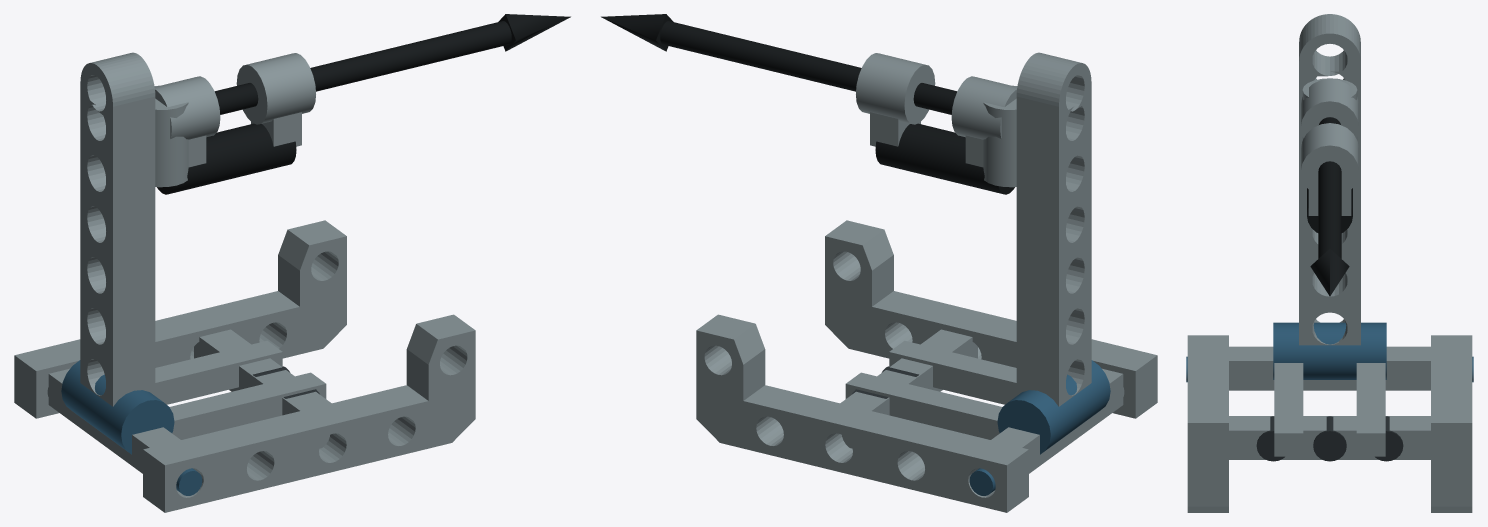
File: crossbow.glb
3 views of the same model, side by side, from view 1: azimuth 30°, elevation 25°; view 2: azimuth 150°, elevation 25°; view 3: azimuth 270°, elevation 25° (orthographic). The views are drawn at different scales.
Visible parts, largest first — view 1: L-shaped perforated side foot (×2), Single perforated folding upright, Inner sliding rail (×2), Arrow guide collar (×2), Arrow shaft, Base lateral crossbar (×2), Fold hinge pin, Lower tension barrel, Launcher pivot socket, Arrow point, Arrow guide support; view 2: L-shaped perforated side foot (×2), Single perforated folding upright, Inner sliding rail (×2), Arrow guide collar (×2), Arrow shaft, Base lateral crossbar (×2), Fold hinge pin, Lower tension barrel, Launcher pivot socket, Arrow point, Arrow guide support; view 3: L-shaped perforated side foot (×2), Single perforated folding upright, Base lateral crossbar (×2), Inner sliding rail (×2), Arrow guide collar (×2), Fold hinge pin, Arrow shaft, Front crossbar opening (×3), Arrow point, Arrow guide support, Lower tension barrel.
Part boxes in pixels (x1,y1,x2,y2): L-shaped perforated side foot (×2): (14, 220, 475, 512); Single perforated folding upright: (80, 52, 155, 406); Inner sliding rail (×2): (74, 340, 326, 444); Arrow guide collar (×2): (154, 53, 315, 139); Arrow shaft: (214, 21, 511, 114); Base lateral crossbar (×2): (47, 329, 331, 473); Fold hinge pin: (61, 360, 174, 454); Lower tension barrel: (157, 123, 296, 194); Launcher pivot socket: (154, 85, 188, 187); Arrow point: (498, 14, 570, 51); Arrow guide support: (251, 112, 301, 146); L-shaped perforated side foot (×2): (696, 220, 1157, 512); Single perforated folding upright: (1016, 52, 1091, 406); Inner sliding rail (×2): (845, 340, 1099, 455); Arrow guide collar (×2): (856, 53, 1017, 139); Arrow shaft: (660, 21, 957, 114); Base lateral crossbar (×2): (840, 329, 1124, 473); Fold hinge pin: (997, 360, 1110, 454); Lower tension barrel: (875, 123, 1014, 194); Launcher pivot socket: (983, 85, 1017, 187); Arrow point: (601, 14, 673, 51); Arrow guide support: (870, 112, 920, 146); L-shaped perforated side foot (×2): (1187, 335, 1472, 512); Single perforated folding upright: (1299, 14, 1360, 345); Base lateral crossbar (×2): (1229, 346, 1430, 459); Inner sliding rail (×2): (1274, 363, 1385, 456); Arrow guide collar (×2): (1301, 79, 1358, 195); Fold hinge pin: (1273, 322, 1386, 379); Arrow shaft: (1318, 117, 1341, 258); Front crossbar opening (×3): (1256, 416, 1403, 461); Arrow point: (1310, 249, 1349, 296); Arrow guide support: (1308, 190, 1351, 215); Lower tension barrel: (1307, 188, 1352, 232).
Bounding box in the file's own units: 3.07 × 2.38 × 1.67.
